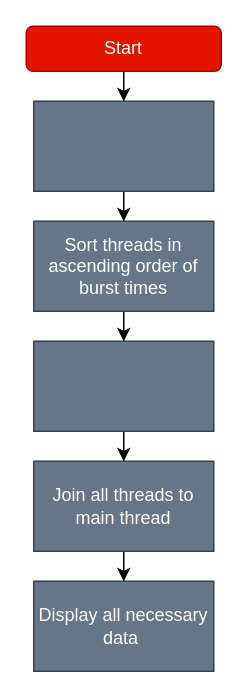
This 248x698 diagram has some shape labels left out. Here are the shapes that lost their labels. From the top down, the centre of each, then its label:
(123,145): Create threads by user input
(123,385): Run all threads in order
